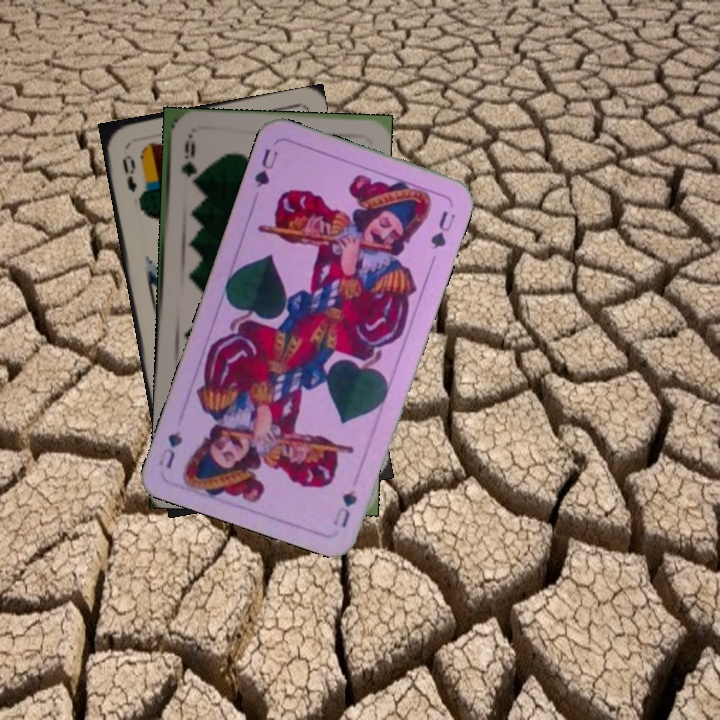EO: (118, 151, 140, 195)
G9: (177, 133, 197, 189)
GU: (250, 144, 281, 191), (329, 486, 360, 531)
